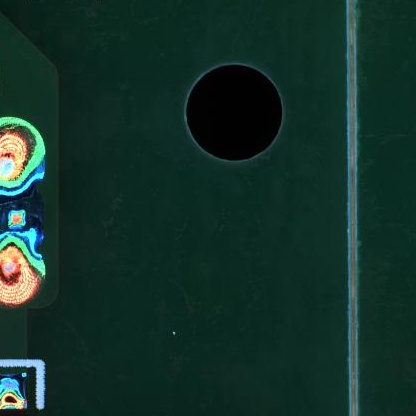spot: (1, 188, 47, 258)
